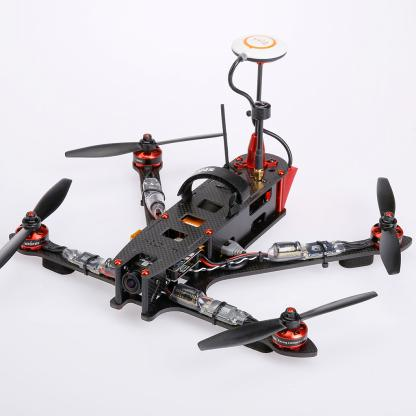drone: (1, 132, 416, 359)
